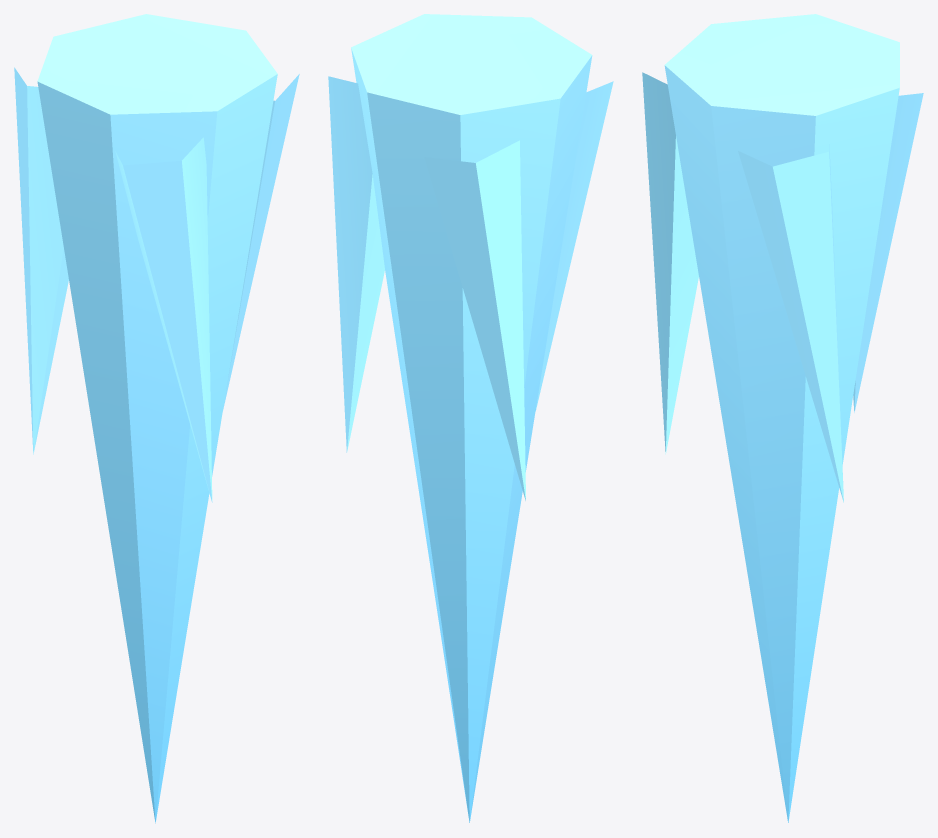
The model's file is prop.glacier_icicle.glb.
3 views of the same model, side by side, from view 1: azimuth 30°, elevation 25°; view 2: azimuth 150°, elevation 25°; view 3: azimuth 270°, elevation 25° (orthographic).
Parts seen in each view (by area): view 1: glacier_icicle; view 2: glacier_icicle; view 3: glacier_icicle.
Boxes of the visible parts, x1,y1,x2,y2 form: glacier_icicle: [14, 14, 299, 823]; glacier_icicle: [328, 14, 613, 822]; glacier_icicle: [642, 14, 923, 822].
Bounding box in the file's own units: 0.7646 × 2.3 × 0.7731.
